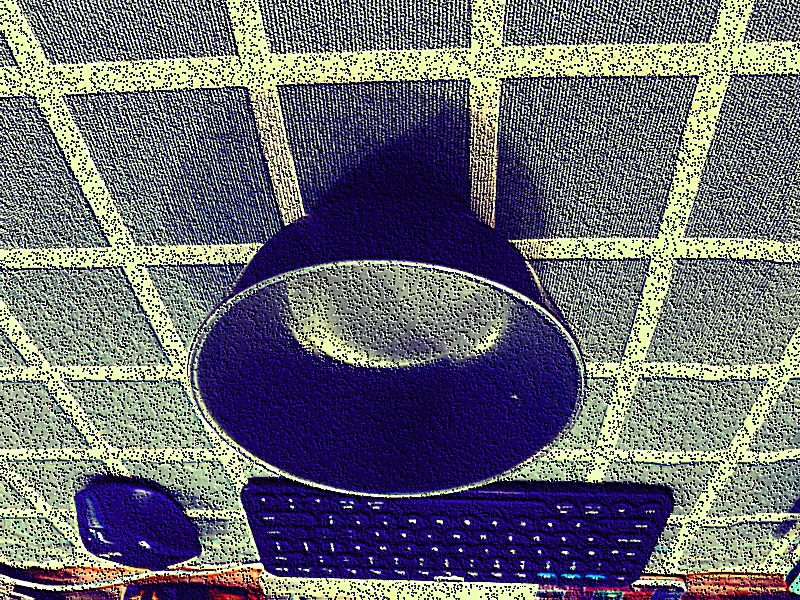bowl_big: (177, 191, 592, 503)
